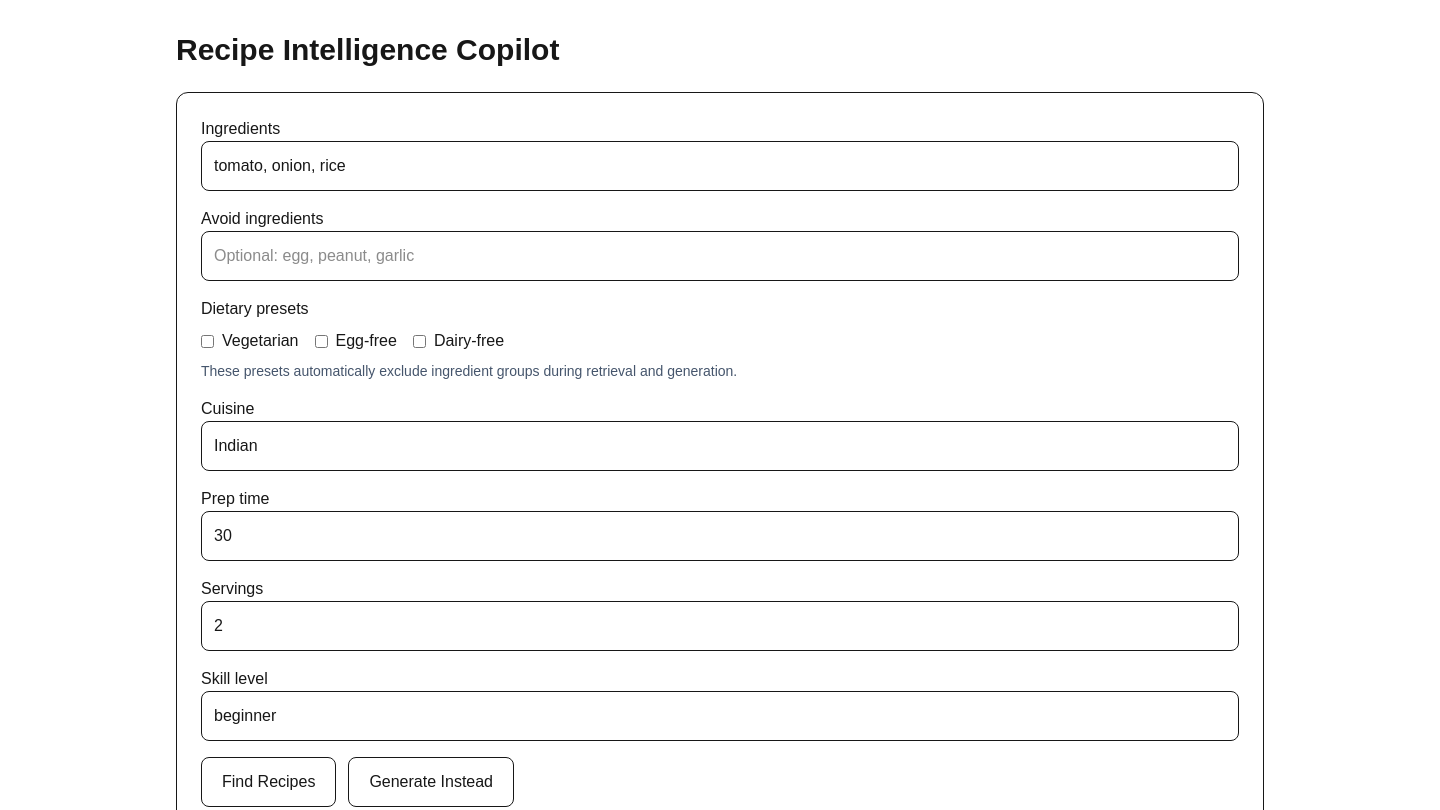
Test case: Recipe page › shows generation empty state when no generated recipes are returned
This screenshot has width=1440, height=810.
Replace the text in the field labelled "Ingredients" with "unknown1, unknown2" at {"x": 720, "y": 166}, box [201, 141, 1239, 191]
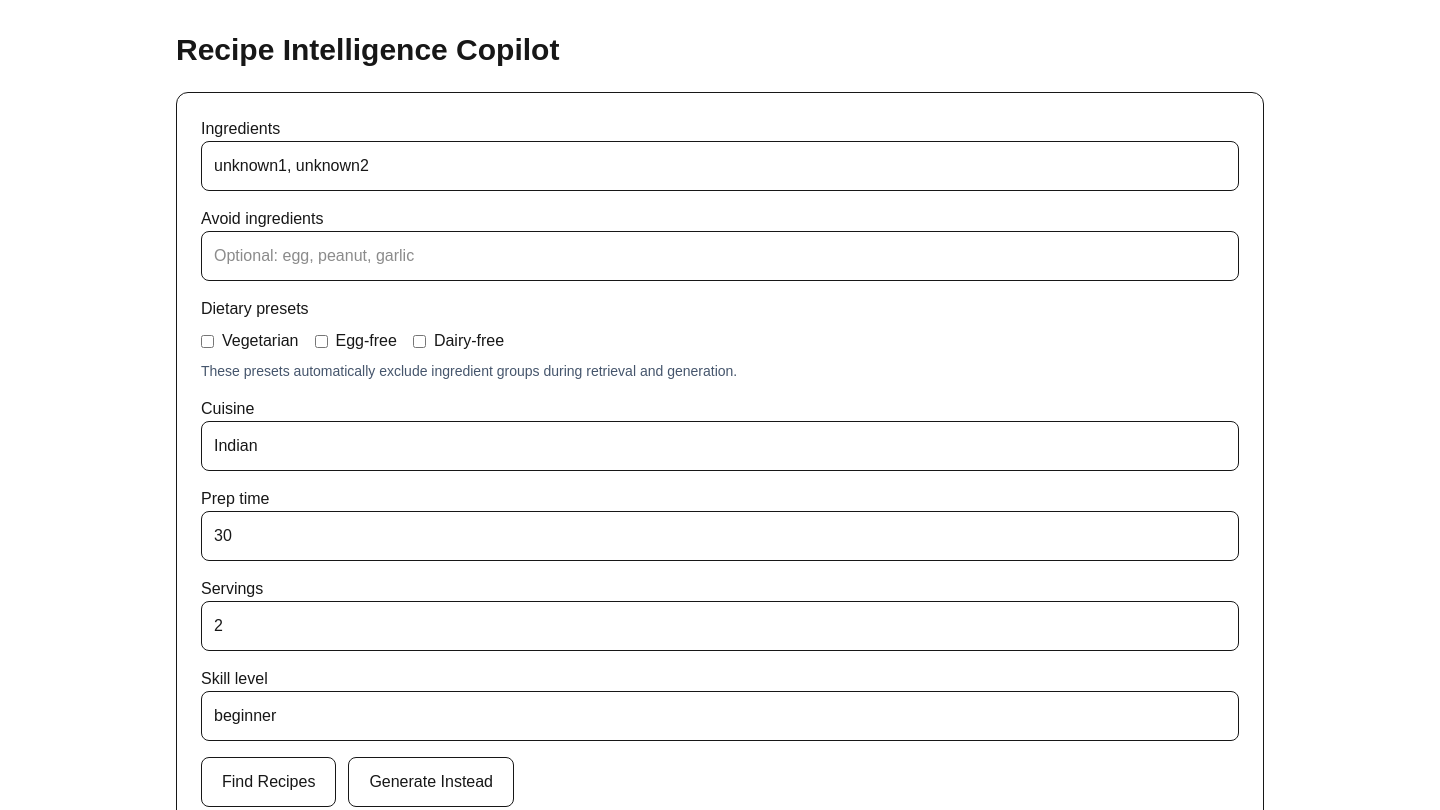
Click the button "Generate Instead" at {"x": 431, "y": 782}, box [348, 757, 514, 807]
(page scrolled)
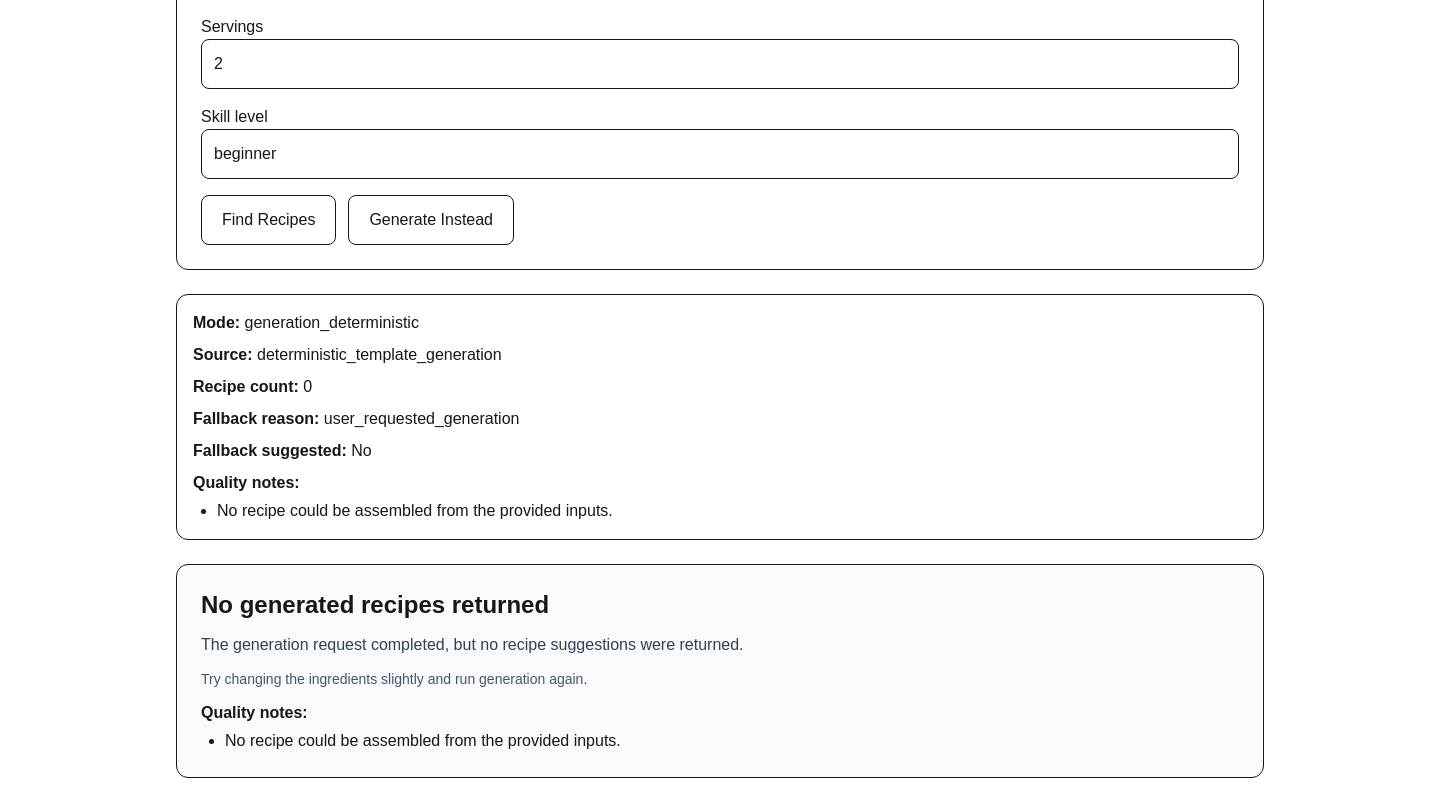
Now the element "No generated recipes returned" is shown, box [176, 564, 1264, 778]
Now the text "The generation request completed, but no recipe suggestions were returned" is shown, box [201, 636, 744, 653]
Now the list item "No recipe could be assembled from the provided inputs." below "No generated recipes returned" is shown, box [225, 732, 621, 749]
